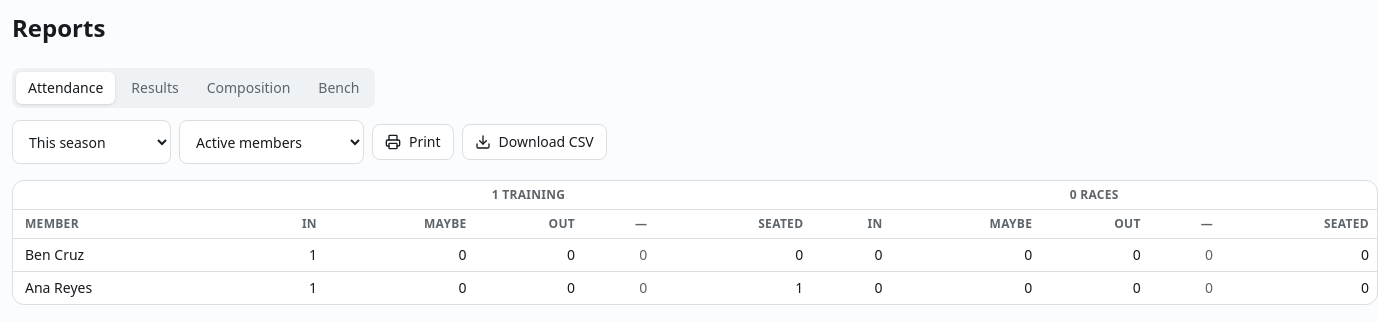
Scenario: ReportsPage › switches to the bench report and shows who was left ashore
Expected: the text "Ana Reyes" is shown, [13,272,246,304]
Click the radio button labelled "Bench" at (339, 88), box [306,72,371,104]
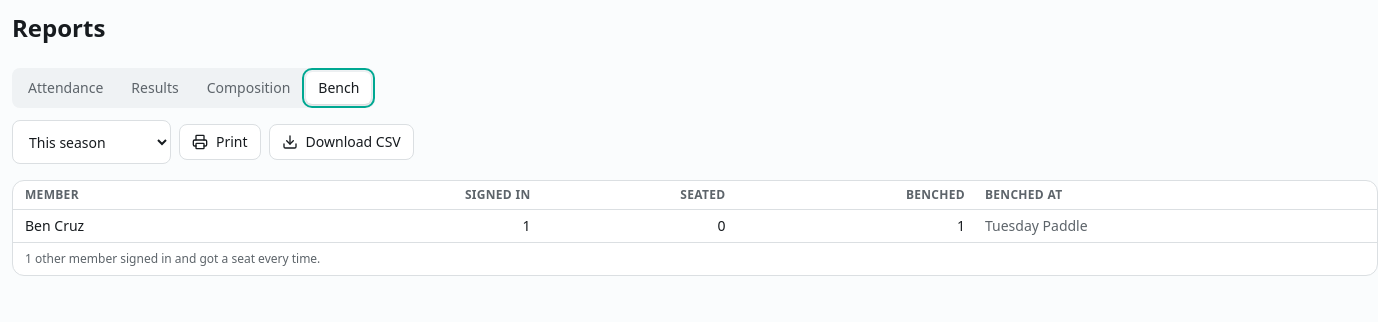
Expected: the text "Ben Cruz" is shown, [13,210,278,242]
Expected: the text "Ana Reyes" is gone
Expected: the text "1 other member signed in and got a seat every time." is shown, [13,242,1377,275]
